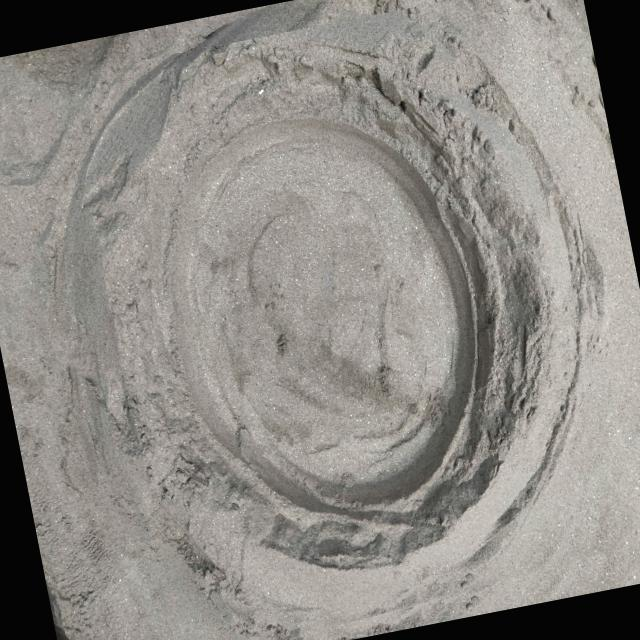C40: (93, 11, 588, 640)
